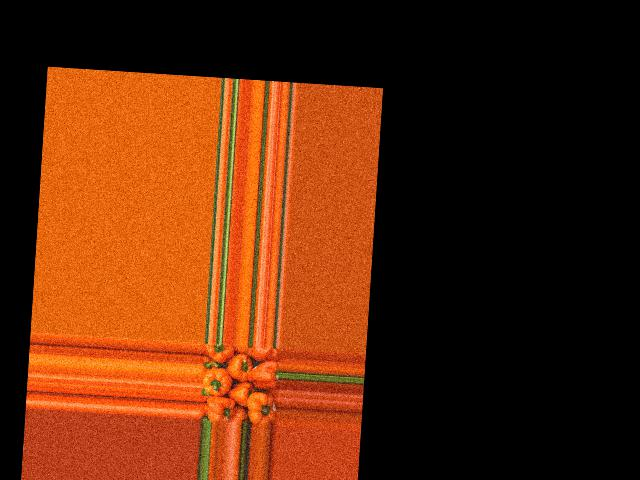bell_pepper: (250, 347, 282, 361)
